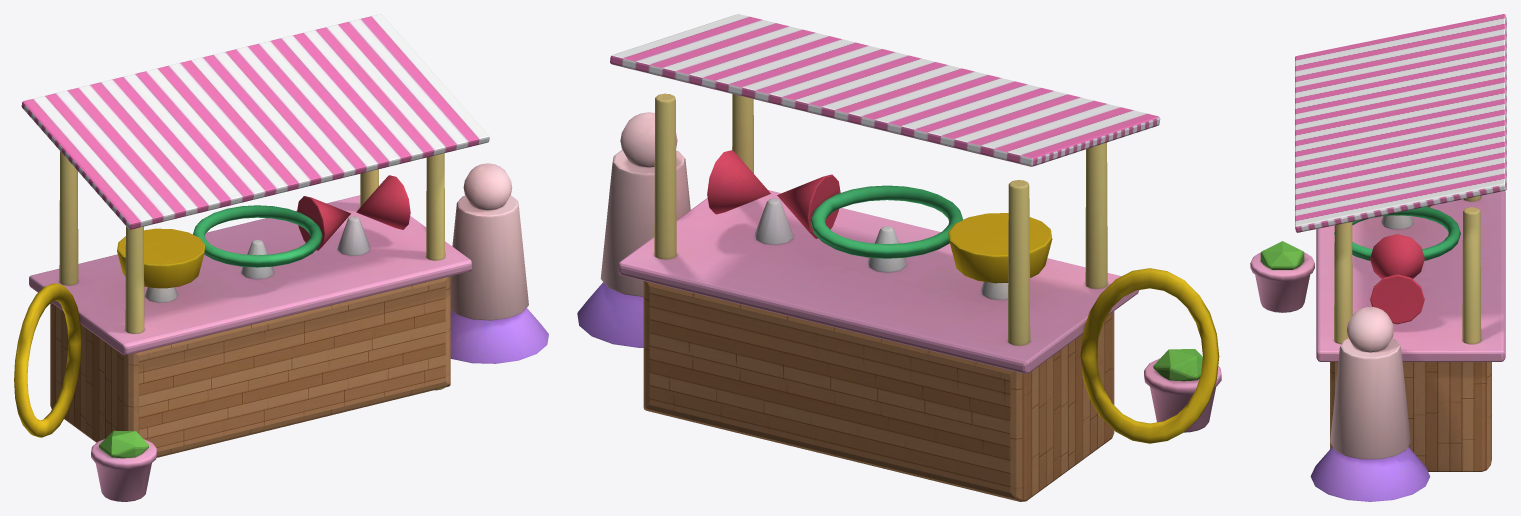
The model's file is boutique.glb.
The picture shows the model from 3 angles, left to right: view 1: azimuth 30°, elevation 25°; view 2: azimuth 150°, elevation 25°; view 3: azimuth 270°, elevation 25°; orthographic projection. The views are drawn at different scales.
Visible parts, largest first — view 1: Mesh_0; view 2: Mesh_0; view 3: Mesh_0.
Boxes of the visible parts, <box> form: Mesh_0: <box>14,14,548,501</box>; Mesh_0: <box>577,14,1221,501</box>; Mesh_0: <box>1250,14,1506,501</box>.
Size of the model in its own units: 8.84 by 4.85 by 3.8.
1 material, 1 textured.
